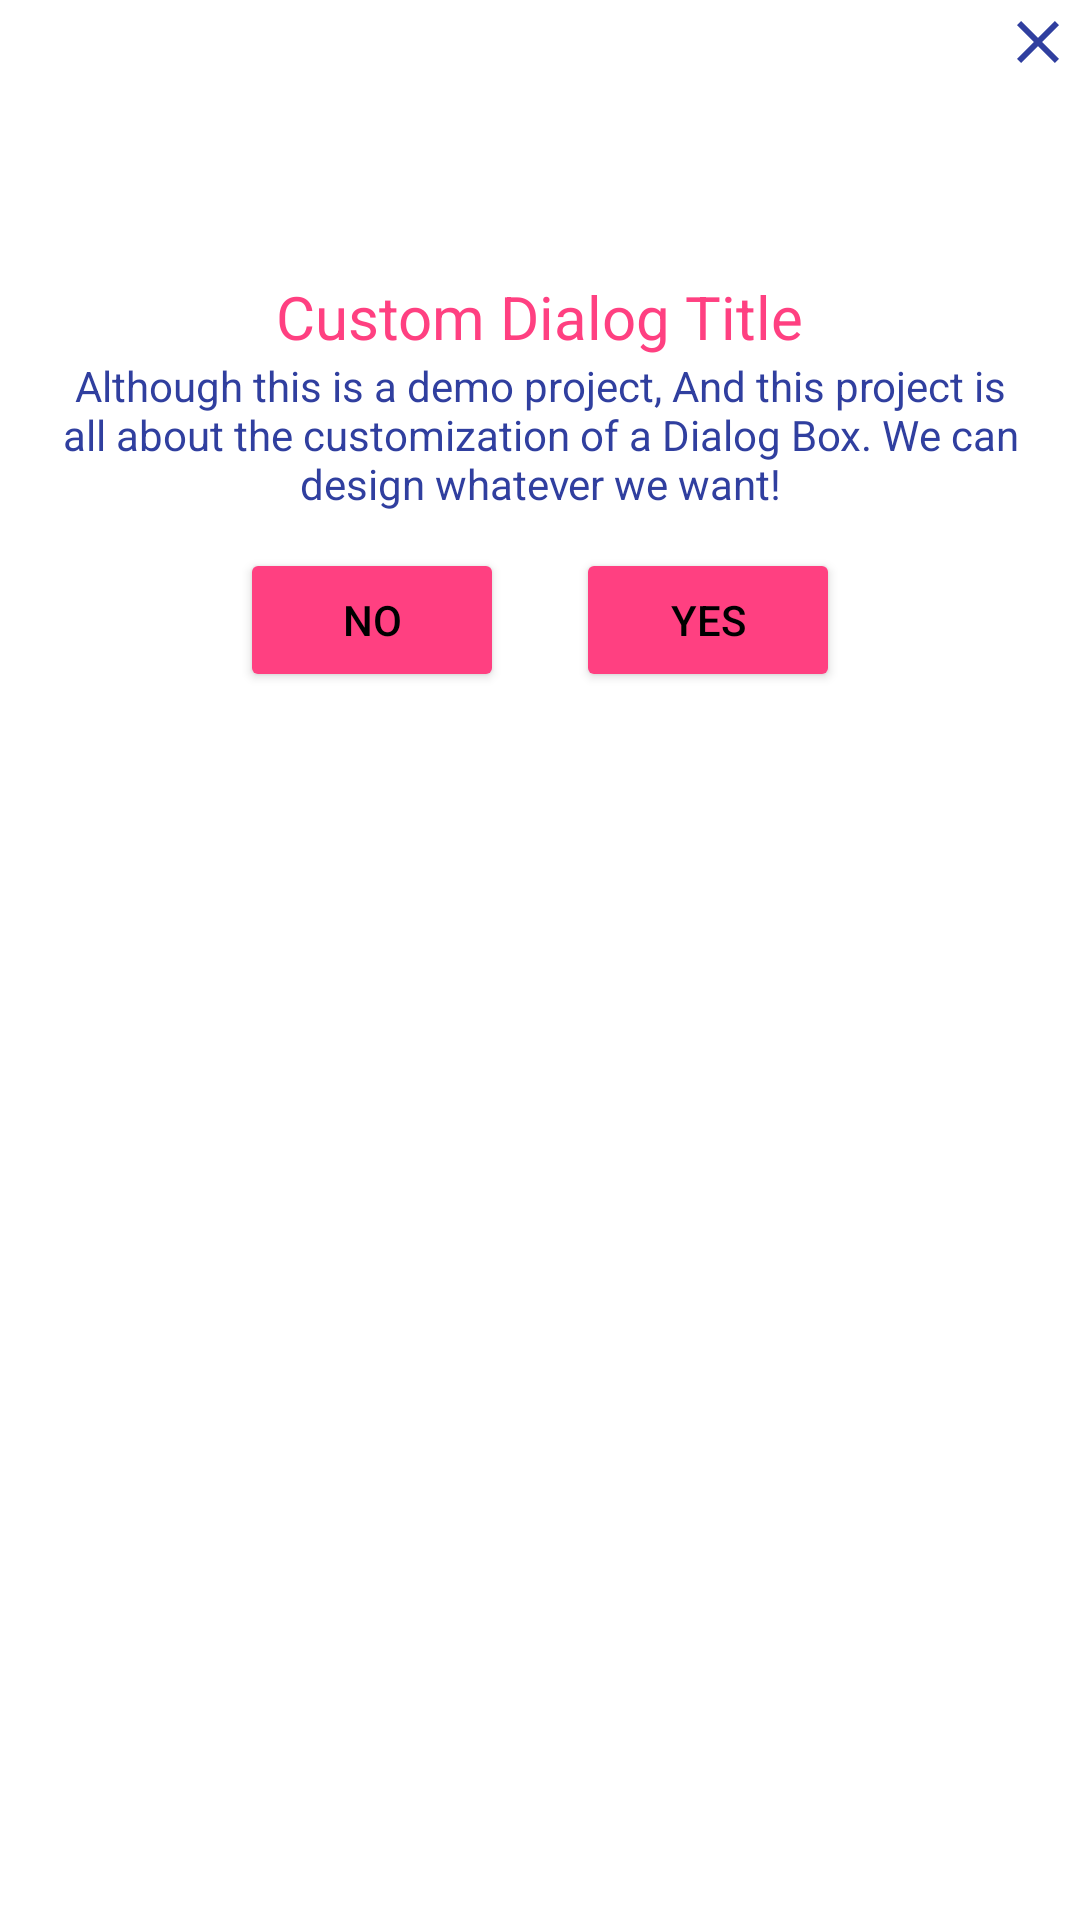

Named icons in this screenshot (1080×1920) and their bounding boxes, (x1, y1, x2, y2):
clear: (1017, 21, 1059, 63)
